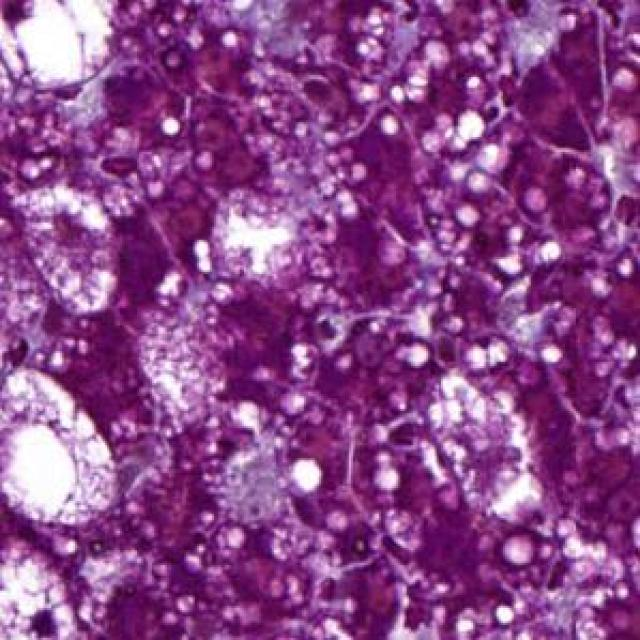ballooning: (4, 368, 118, 527), (4, 5, 116, 99), (6, 535, 86, 640)
